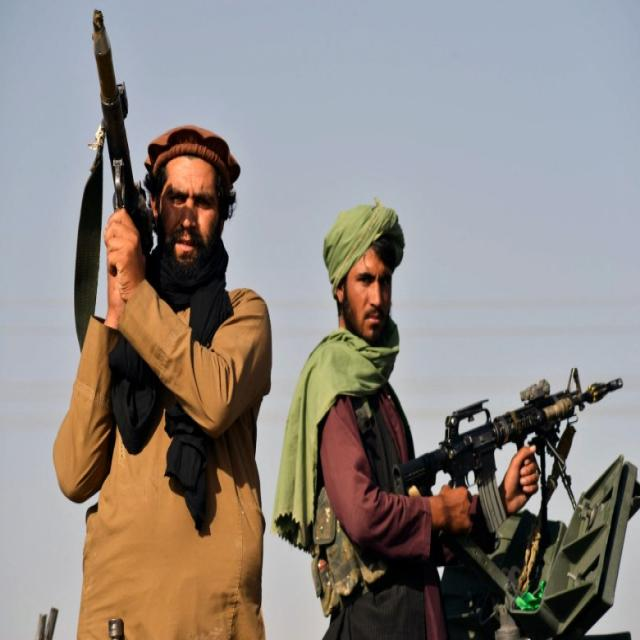Militant: (54, 44, 265, 640), (277, 146, 520, 640)
